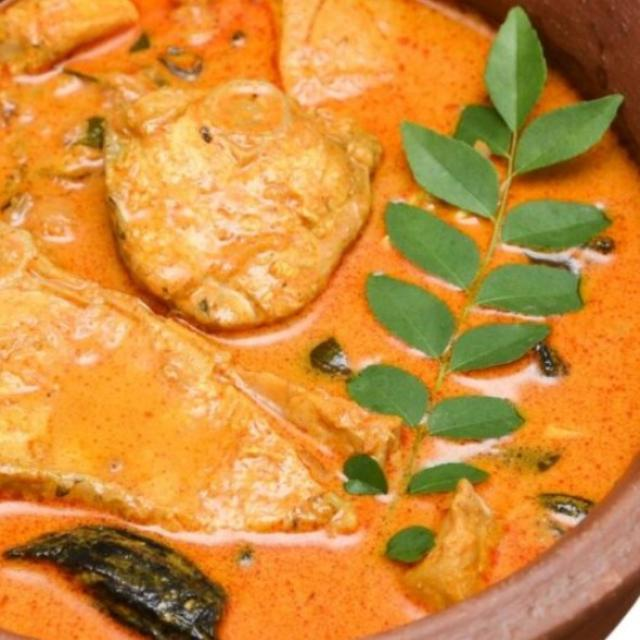FISH CURRY: (0, 3, 639, 639)
